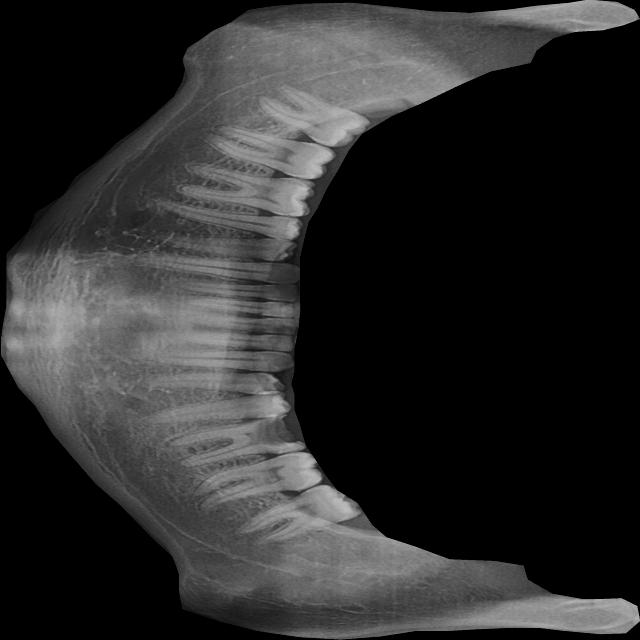mandibula: (0, 0, 640, 640)
